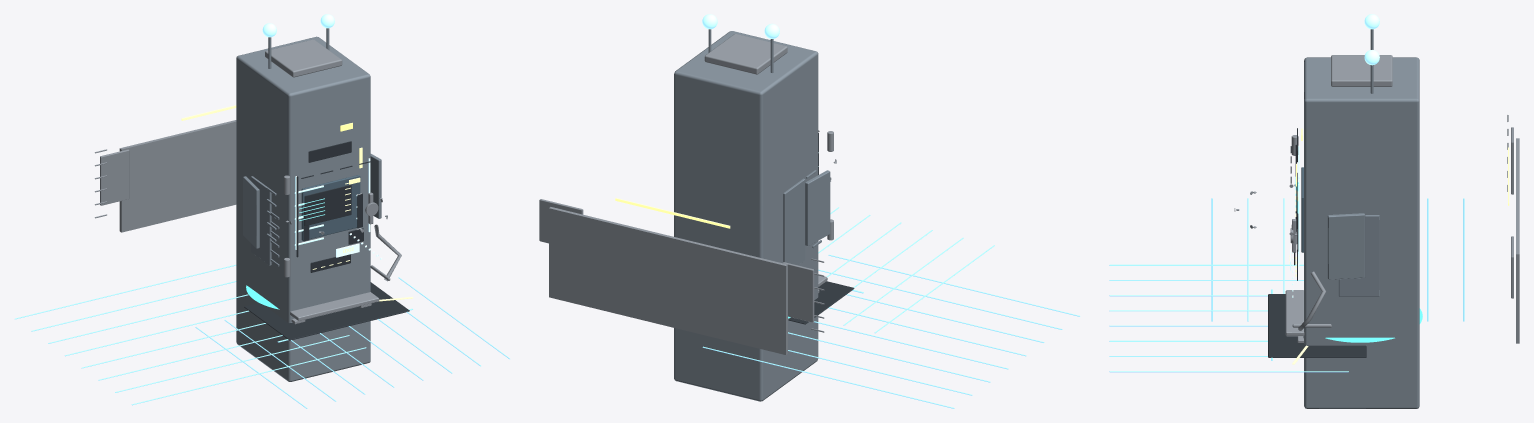
3 views of the same model, side by side, from view 1: azimuth 30°, elevation 25°; view 2: azimuth 150°, elevation 25°; view 3: azimuth 270°, elevation 25° (orthographic). The views are drawn at different scales.
Parts seen in each view (by area): view 1: monolith_core, background_horizon_panel_safe, floor_service_mat_graphite_safe, monolith_top_cap_slab, front_panel_glass, background_left_service_panel_safe, front_screen_deep_glass_bezel, side_panel_left_stepped_wing, pedestal_front_step_slab, side_panel_left, side_panel_right_stepped_wing, front_upper_visor_recess_panel; view 2: monolith_core, background_horizon_panel_safe, monolith_top_cap_slab, side_panel_left, side_panel_left_stepped_wing, background_left_service_panel_safe, floor_service_mat_graphite_safe, background_right_diffuser_panel_safe; view 3: monolith_core, side_panel_right_stepped_wing, floor_service_mat_graphite_safe, monolith_top_cap_slab, side_panel_right, pedestal_front_step_slab, background_horizon_panel_safe, floor_grid_safe_depthline_08, floor_grid_safe_depthline_01, pedestal_glow_ring_safe.
Part boxes in pixels (<box>): monolith_core: <box>236,36,370,381</box>; background_horizon_panel_safe: <box>119,120,236,232</box>; floor_service_mat_graphite_safe: <box>244,282,409,340</box>; monolith_top_cap_slab: <box>265,39,342,77</box>; front_panel_glass: <box>301,175,360,240</box>; background_left_service_panel_safe: <box>100,149,129,205</box>; front_screen_deep_glass_bezel: <box>304,184,351,225</box>; side_panel_left_stepped_wing: <box>243,176,259,248</box>; pedestal_front_step_slab: <box>290,292,379,320</box>; side_panel_left: <box>251,176,271,265</box>; side_panel_right_stepped_wing: <box>370,154,381,218</box>; front_upper_visor_recess_panel: <box>308,141,351,162</box>; monolith_core: <box>674,31,818,401</box>; background_horizon_panel_safe: <box>549,207,787,354</box>; monolith_top_cap_slab: <box>704,34,787,74</box>; side_panel_left: <box>783,178,805,265</box>; side_panel_left_stepped_wing: <box>805,170,830,246</box>; background_left_service_panel_safe: <box>782,262,814,322</box>; floor_service_mat_graphite_safe: <box>788,281,854,324</box>; background_right_diffuser_panel_safe: <box>539,199,583,243</box>; monolith_core: <box>1304,57,1419,408</box>; side_panel_right_stepped_wing: <box>1327,213,1365,279</box>; floor_service_mat_graphite_safe: <box>1268,294,1366,357</box>; monolith_top_cap_slab: <box>1331,55,1392,86</box>; side_panel_right: <box>1338,215,1379,296</box>; pedestal_front_step_slab: <box>1285,290,1304,336</box>; background_horizon_panel_safe: <box>1516,138,1519,343</box>; floor_grid_safe_depthline_08: <box>1109,371,1348,372</box>; floor_grid_safe_depthline_01: <box>1109,264,1303,265</box>; pedestal_glow_ring_safe: <box>1325,308,1422,342</box>.
Size of what is drawn, in the model's own units: 5.27 by 4.62 by 4.79.
